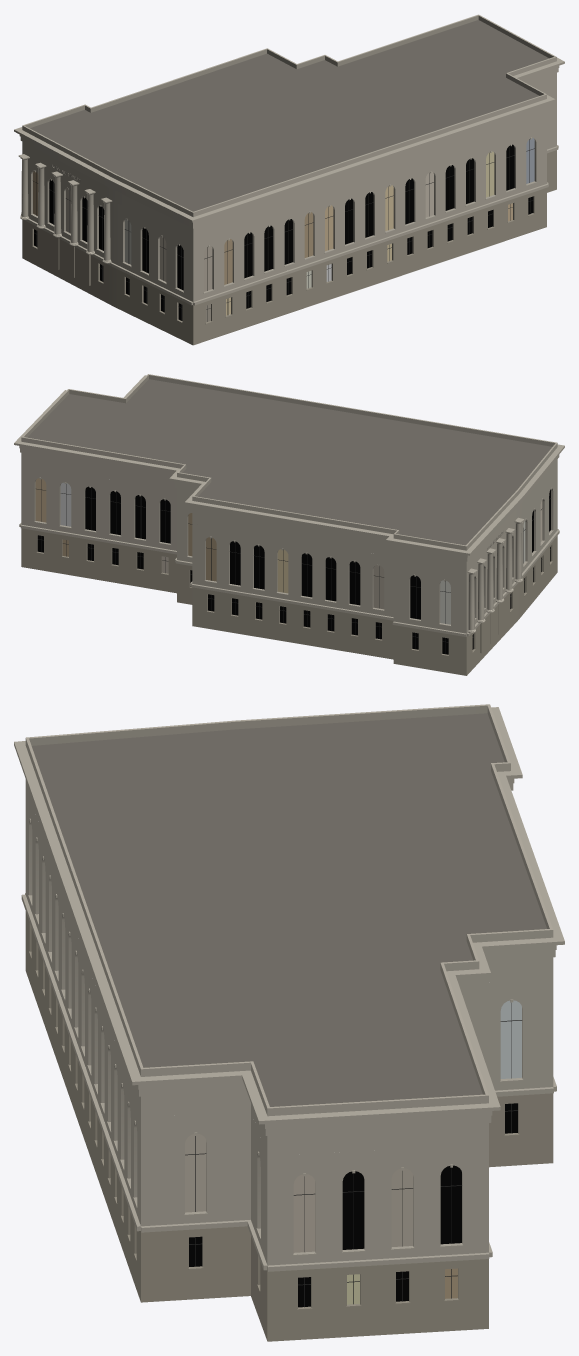
The model's file is asianArt_lod0.glb.
3 renders of one model, top to bottom at view 1: azimuth 30°, elevation 25°; view 2: azimuth 150°, elevation 25°; view 3: azimuth 270°, elevation 25°, orthographic. The views are drawn at different scales.
Visible parts, largest first — view 1: L0_granite, L0_roof, L0_win, L0_metal; view 2: L0_granite, L0_roof, L0_win, L0_metal; view 3: L0_roof, L0_granite, L0_win, L0_metal.
Part boxes in pixels (x1,y1,x2,y2): L0_granite: (14, 14, 564, 345); L0_roof: (30, 20, 548, 211); L0_win: (33, 138, 534, 322); L0_metal: (33, 139, 534, 321); L0_granite: (14, 374, 564, 675); L0_roof: (27, 379, 552, 545); L0_win: (35, 478, 550, 654); L0_metal: (36, 479, 550, 653); L0_roof: (31, 713, 546, 1106); L0_granite: (14, 704, 564, 1341); L0_win: (185, 1000, 521, 1307); L0_metal: (185, 1003, 522, 1307).
Bounding box in the file's own units: 114 × 30 × 64.22.
